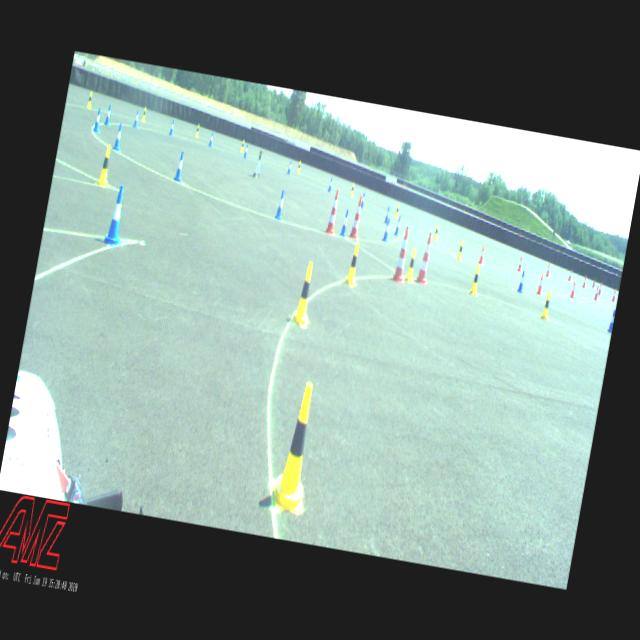blue_cone: (101, 184, 130, 247), (172, 151, 186, 182), (274, 189, 286, 220), (112, 124, 125, 152), (340, 208, 350, 235), (92, 108, 103, 132), (516, 269, 526, 293), (382, 218, 391, 242), (104, 104, 112, 126), (607, 310, 615, 331), (394, 215, 401, 235), (168, 118, 176, 134), (132, 110, 140, 126), (384, 206, 390, 222), (208, 131, 214, 147), (243, 143, 249, 158), (286, 160, 292, 174), (360, 192, 364, 208), (328, 178, 332, 192)
large_orange_cone: (390, 224, 414, 283), (414, 231, 436, 284), (324, 188, 342, 235), (348, 196, 365, 240)
orange_cone: (536, 274, 544, 294), (478, 245, 486, 264), (570, 280, 576, 297), (517, 256, 523, 272), (593, 286, 599, 300), (545, 264, 551, 276), (611, 288, 616, 301), (582, 275, 587, 287), (598, 282, 602, 294), (568, 270, 572, 280)
yellow_cone: (268, 379, 324, 514), (292, 260, 318, 326), (343, 241, 363, 287), (96, 144, 114, 186), (404, 246, 418, 282), (468, 264, 482, 296), (540, 291, 553, 319), (456, 240, 464, 260), (86, 91, 94, 108), (432, 223, 440, 240), (140, 105, 147, 122), (394, 204, 400, 218), (194, 125, 200, 137), (296, 160, 301, 173), (240, 139, 245, 152), (350, 182, 354, 196)
